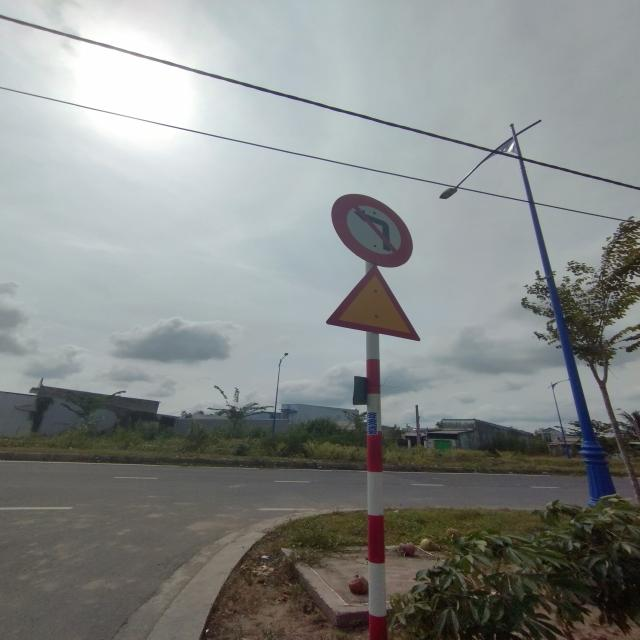Cam_Re_Trai: (330, 194, 416, 267)
Gioi_Han_Toc_Do_25: (323, 264, 423, 342)
